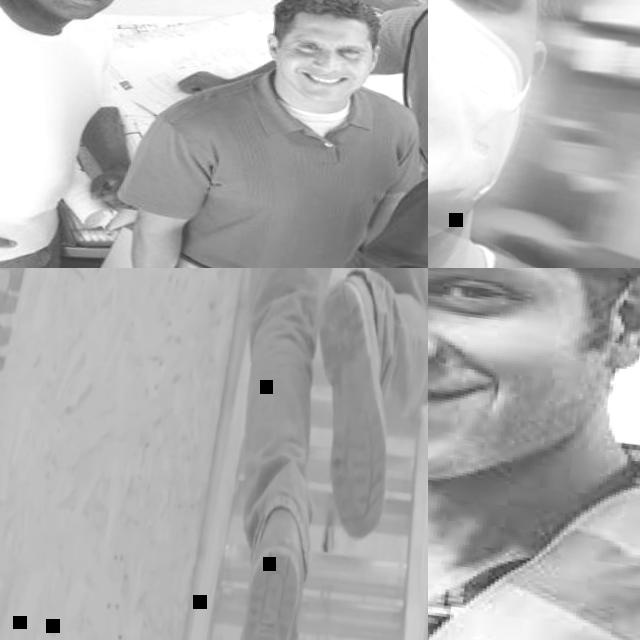Mask: (428, 0, 539, 253)
NO-Hardhat: (271, 0, 394, 34)
NO-Mask: (428, 291, 640, 503), (281, 59, 364, 105), (15, 0, 124, 26)
NO-Safety Vest: (167, 82, 419, 268), (0, 6, 120, 268), (428, 209, 640, 268)
Person: (151, 268, 428, 640), (109, 0, 428, 268), (428, 268, 640, 640), (428, 0, 640, 268), (0, 0, 176, 268)
Safety Vest: (428, 418, 640, 640)
vehicle: (0, 0, 428, 268)
